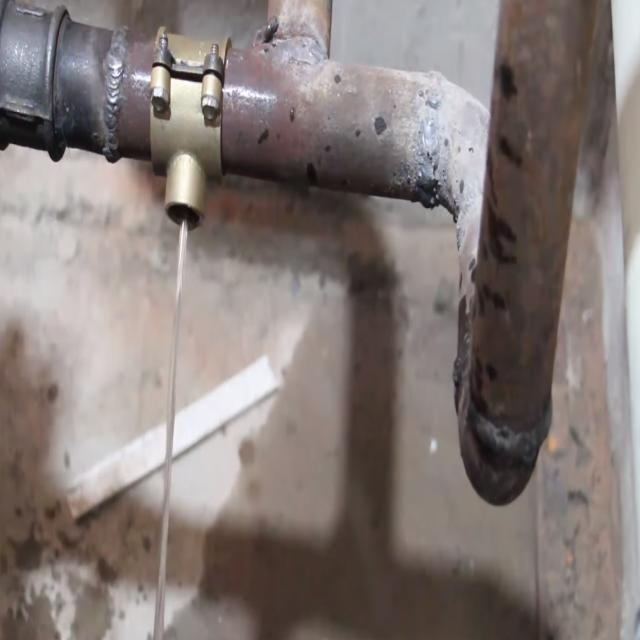leak: (154, 218, 188, 638)
